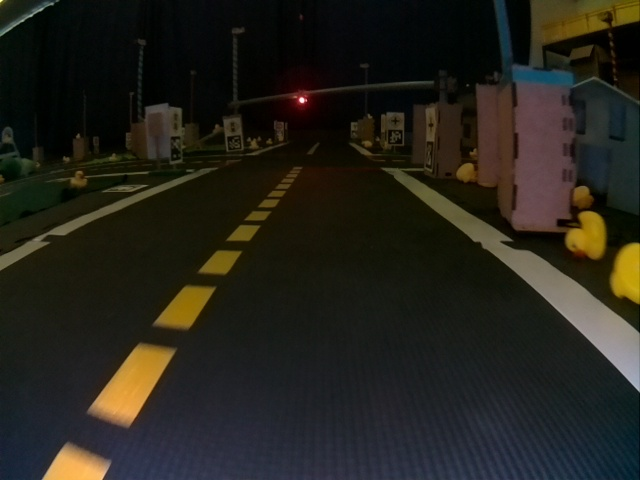Duckie: (565, 213, 607, 259), (611, 244, 640, 303), (571, 185, 593, 208), (456, 163, 477, 182), (70, 171, 87, 186)
Intersection sign: (425, 113, 436, 138), (388, 113, 403, 128)
QR code: (170, 136, 182, 162), (424, 141, 433, 171), (388, 129, 403, 146), (227, 136, 242, 150)
Signal sign: (170, 111, 180, 131), (226, 120, 239, 134)
Traffic light: (297, 95, 307, 104)
